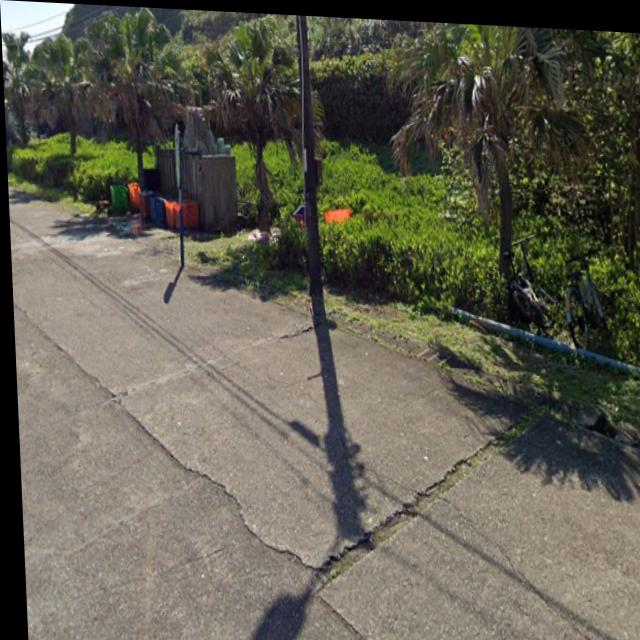pollute: (106, 164, 199, 231), (244, 224, 280, 249), (320, 205, 352, 224), (288, 200, 302, 225)
